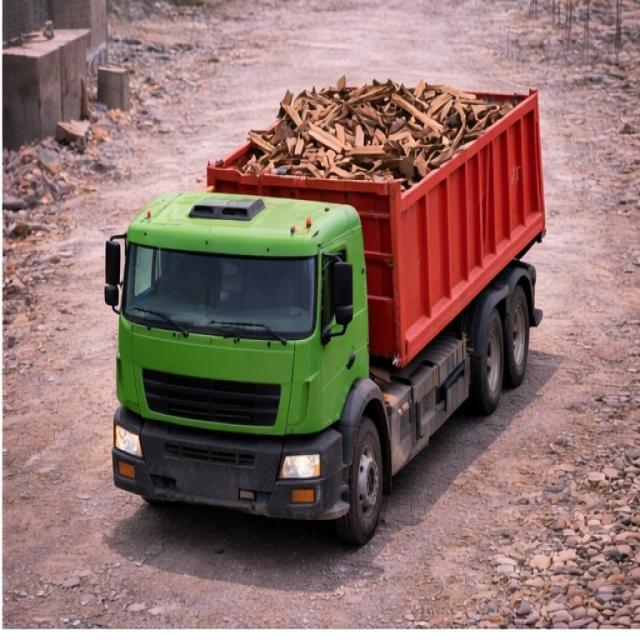Box: (202, 76, 537, 190)
Truck: (101, 59, 576, 544)
